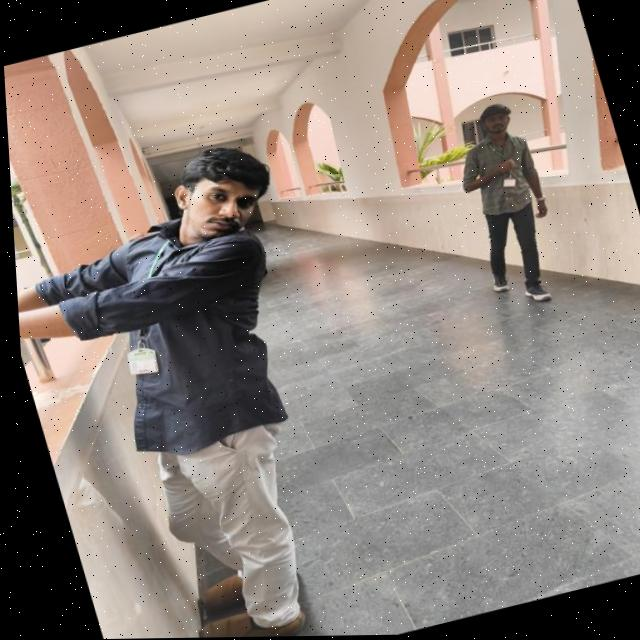id_card: (87, 231, 206, 395), (482, 132, 522, 196)
